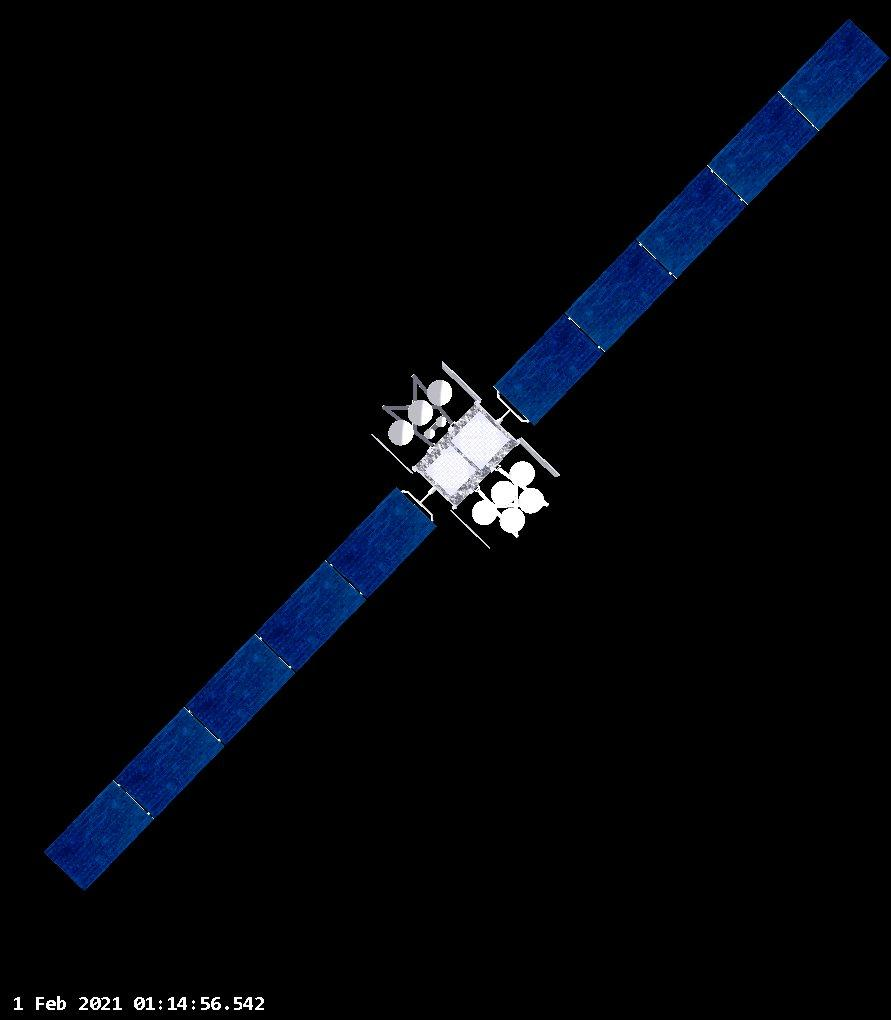antenna: (426, 379, 453, 407), (388, 419, 415, 447), (509, 460, 536, 487), (471, 499, 498, 526), (490, 481, 518, 507), (517, 488, 545, 514), (408, 399, 434, 426), (499, 507, 526, 533), (423, 428, 436, 440), (435, 416, 447, 428)
body: (412, 402, 521, 510)
solar: (40, 478, 441, 894), (490, 18, 891, 431)
